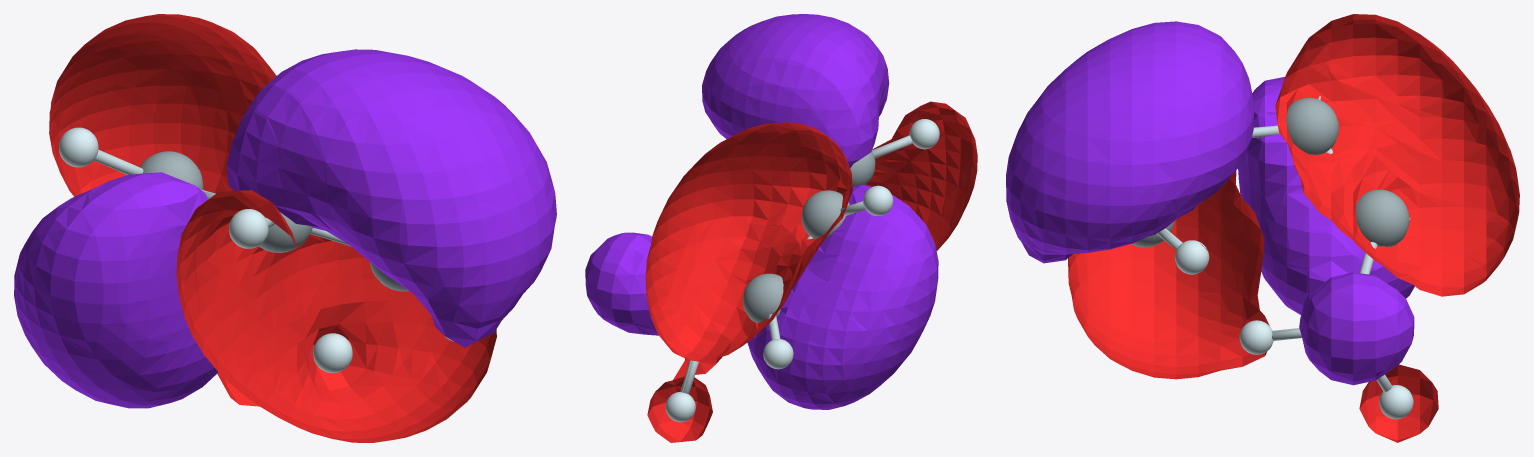
3 views of the same model, side by side, from view 1: azimuth 30°, elevation 25°; view 2: azimuth 150°, elevation 25°; view 3: azimuth 270°, elevation 25° (orthographic). The views are drawn at different scales.
Visible parts, largest first — view 1: Renderer Node; view 2: Renderer Node; view 3: Renderer Node.
Part boxes in pixels (x1=…): Renderer Node: x1=14, y1=14, x2=556, y2=442; Renderer Node: x1=585, y1=14, x2=977, y2=442; Renderer Node: x1=1006, y1=14, x2=1519, y2=442.
Bounding box in the file's own units: 4.81 × 4.99 × 5.95.
